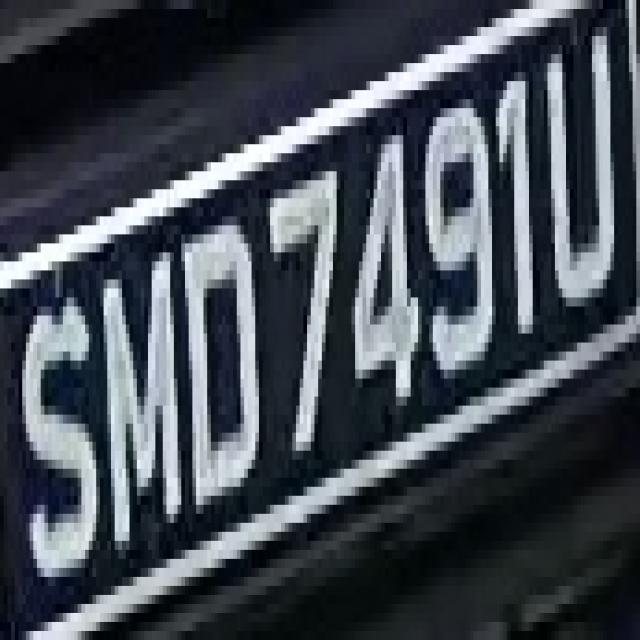1: (492, 72, 544, 361)
4: (333, 99, 425, 424)
7: (259, 162, 351, 496)
9: (407, 54, 496, 388)
D: (170, 234, 263, 541)
M: (100, 252, 181, 559)
S: (11, 288, 96, 586)
U: (536, 18, 626, 316)
